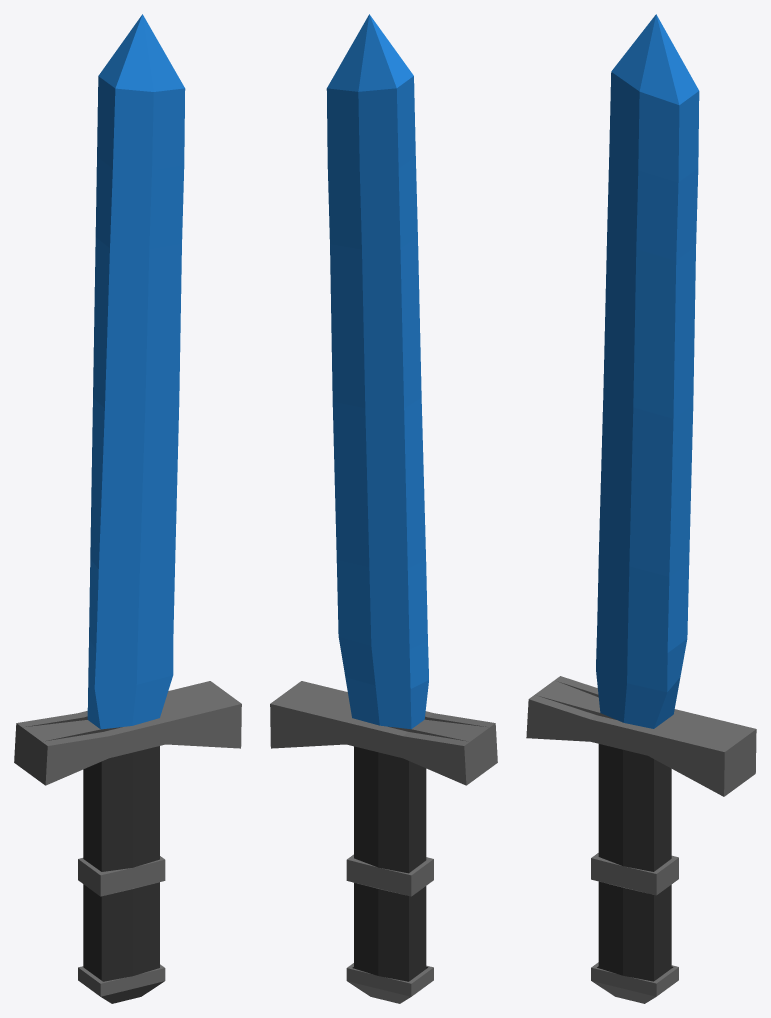
The model's file is Sword.fbx.
3 views of the same model, side by side, from view 1: azimuth 30°, elevation 25°; view 2: azimuth 150°, elevation 25°; view 3: azimuth 330°, elevation 25° (orthographic).
Parts seen in each view (by area): view 1: Cube; view 2: Cube; view 3: Cube.
Part boxes in pixels (x1,y1,x2,y2): Cube: (14, 14, 241, 1003); Cube: (270, 14, 497, 1003); Cube: (526, 14, 756, 1003).
Bounding box in the file's own units: 2.97 × 14.13 × 0.8237.
